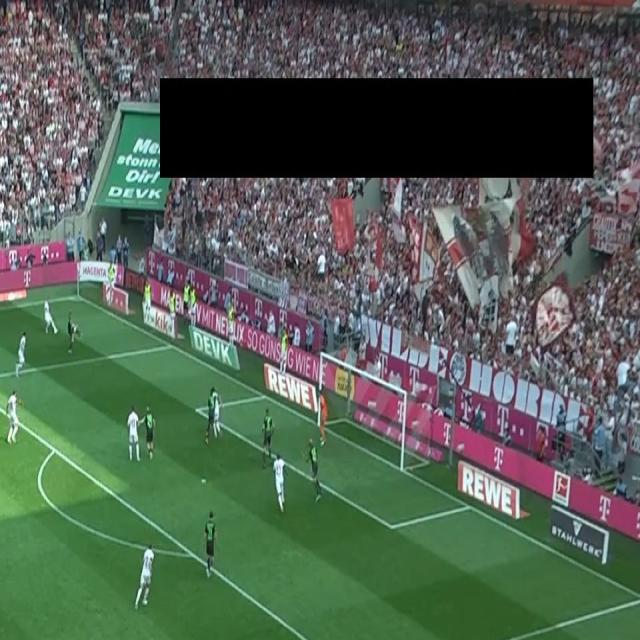ball: (53, 325, 59, 335)
